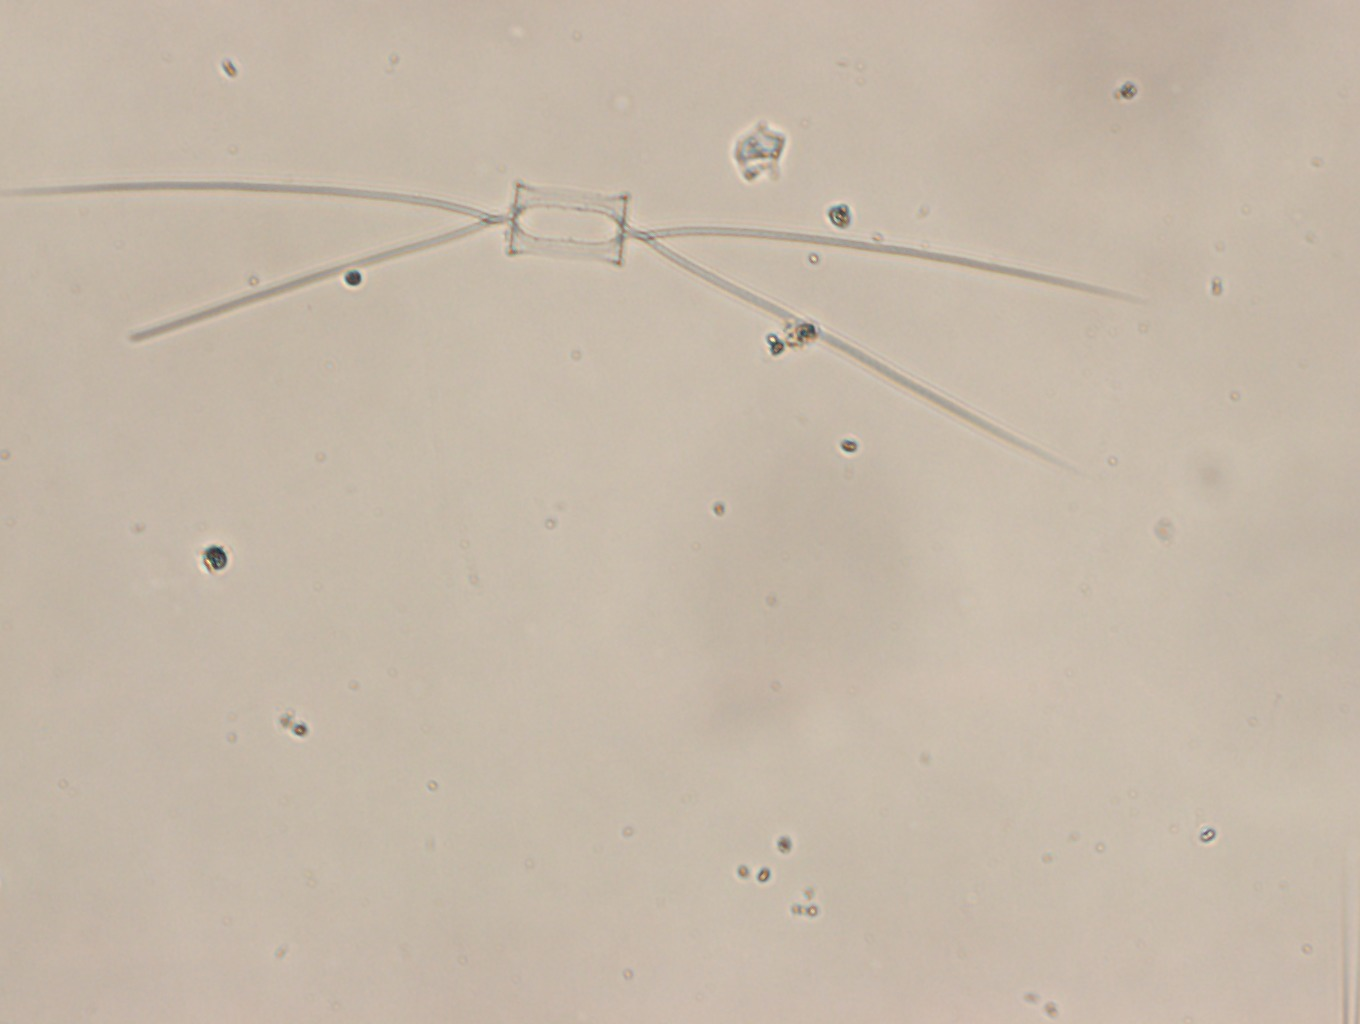chaetoceros: (8, 177, 1140, 483)
